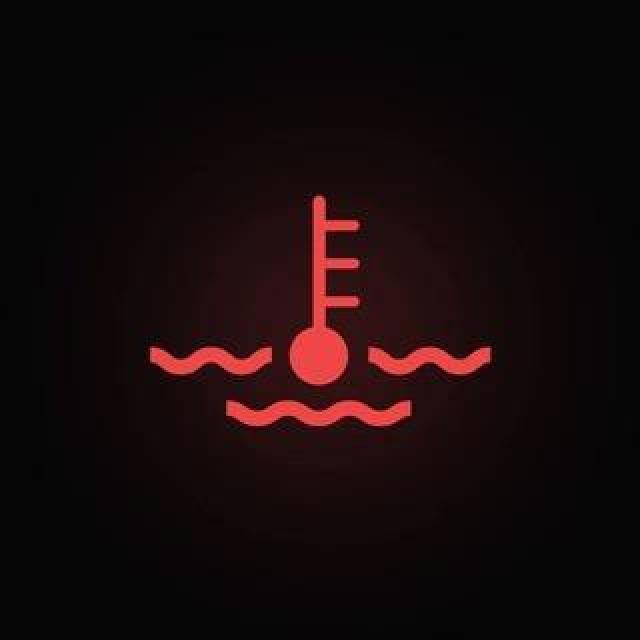kontrolka: (119, 178, 526, 445)
